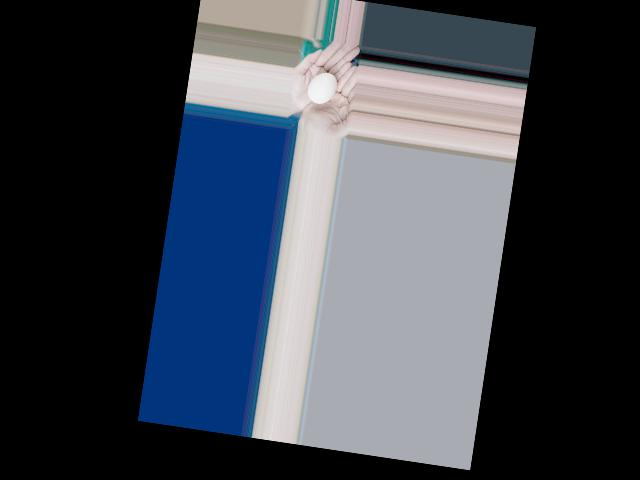egg: (307, 70, 338, 105)
